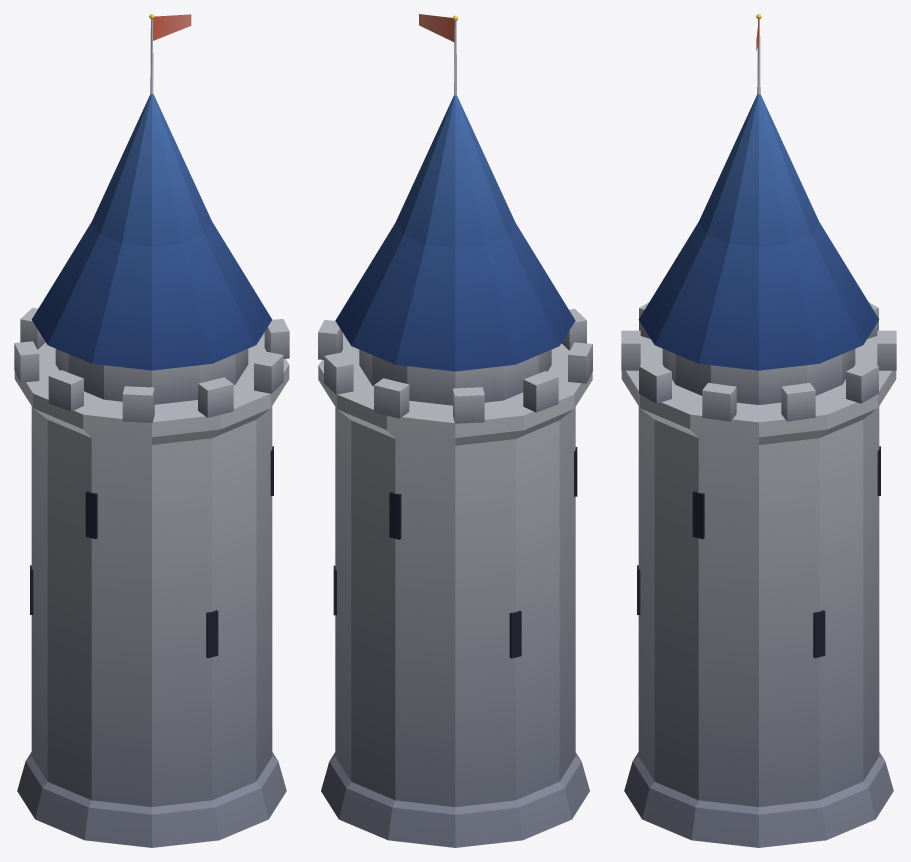
The model's file is castle_tower.glb.
3 views of the same model, side by side, from view 1: azimuth 30°, elevation 25°; view 2: azimuth 150°, elevation 25°; view 3: azimuth 270°, elevation 25° (orthographic).
Visible parts, largest first — view 1: castle_tower; view 2: castle_tower; view 3: castle_tower.
Part boxes in pixels (x1,y1,x2,y2): castle_tower: [14, 14, 289, 847]; castle_tower: [318, 14, 592, 847]; castle_tower: [621, 14, 896, 847].
Bounding box in the file's own units: 5.02 × 15.66 × 5.03.
